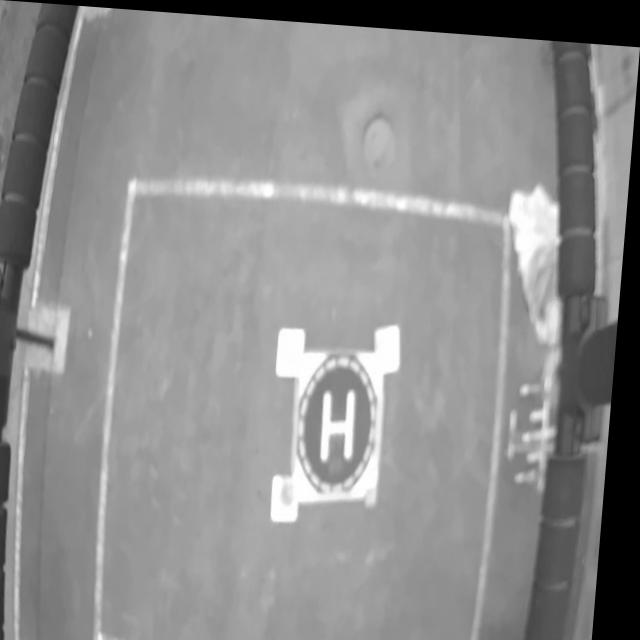Helipad: (327, 384, 363, 458)
